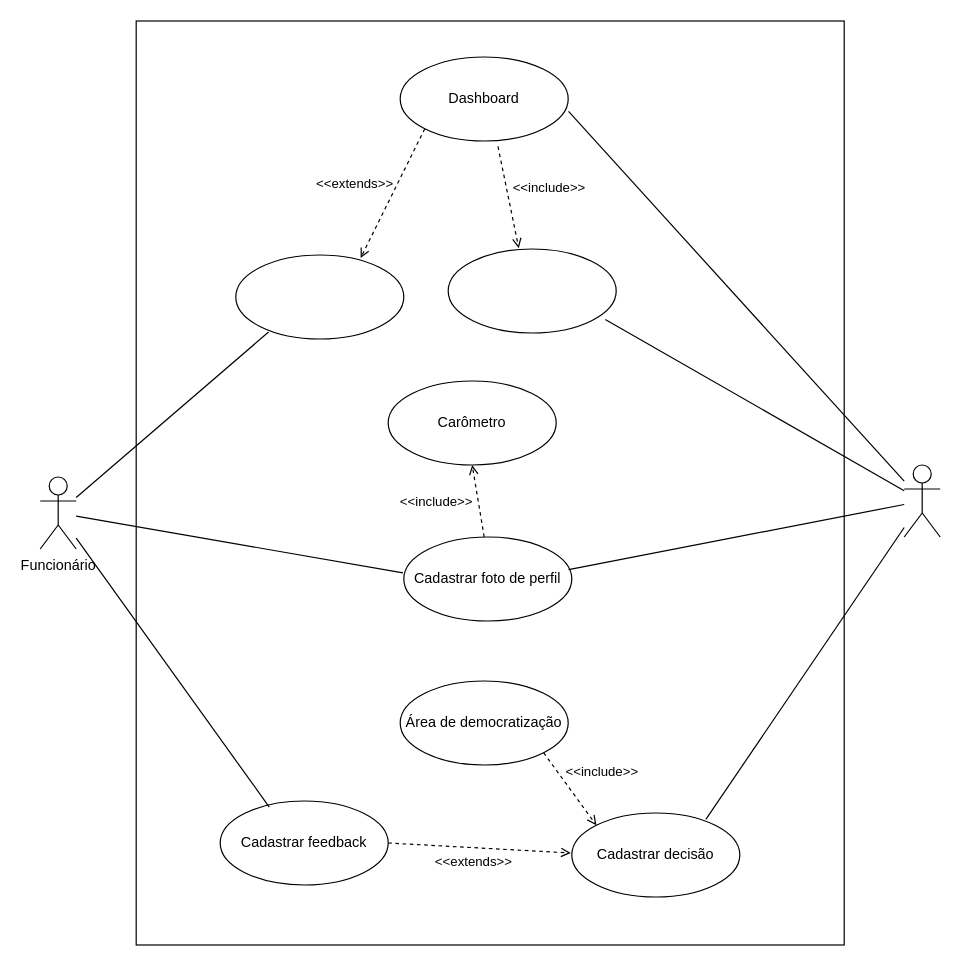
This 965x966 diagram has some shape labels left out. The shapes that lost their labels are listed below. From the top down, each one's centre as x and y in pixels, then its label:
pixel 319 296: Publicar satisfação pessoal
pixel 531 290: Gerar avaliação do funcionário
pixel 921 500: Gestor
